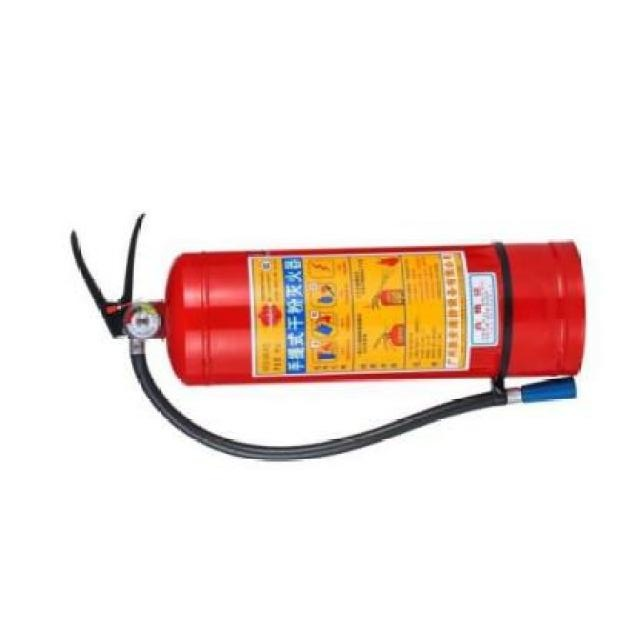fire extinguisher: (70, 213, 585, 462)
